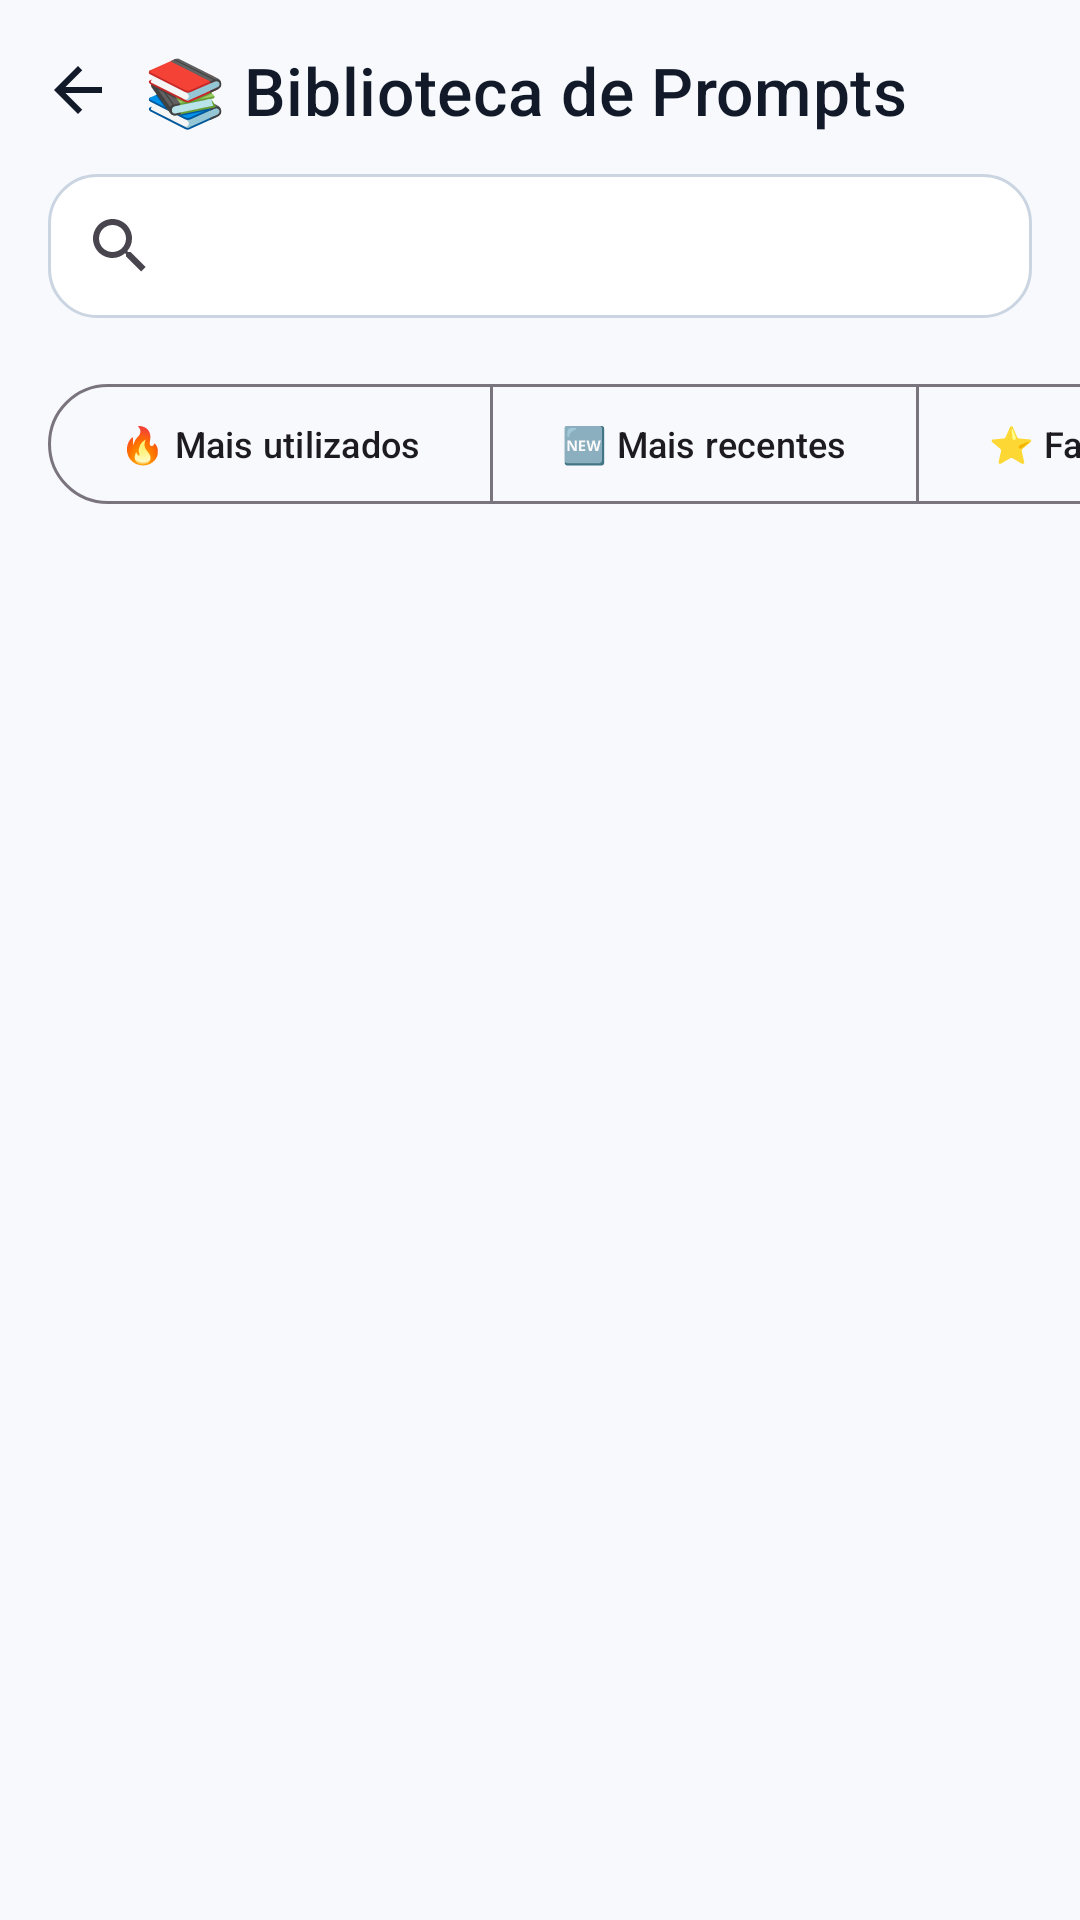

Point at icon controls on the screen. Image size 1080w x 1920h, points as (x=x, y=y).
Voltar: (x=78, y=90)
